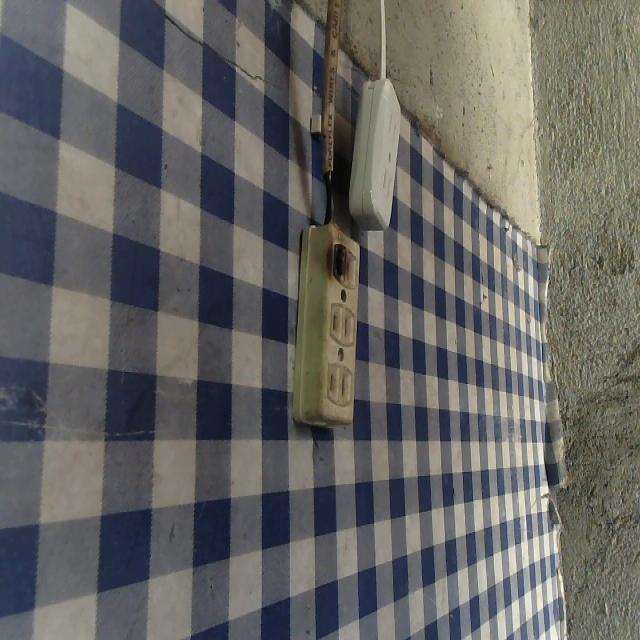-: (324, 233, 348, 290)
